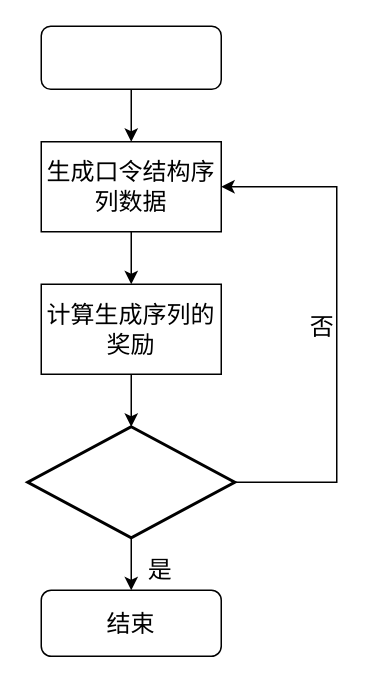
This 375x683 diagram has some shape labels left out. The box of each missing label's shape, as (x1, y1, x2, y2) in pixels:
开始: (40, 25, 221, 89)
是否收敛: (26, 424, 236, 538)
